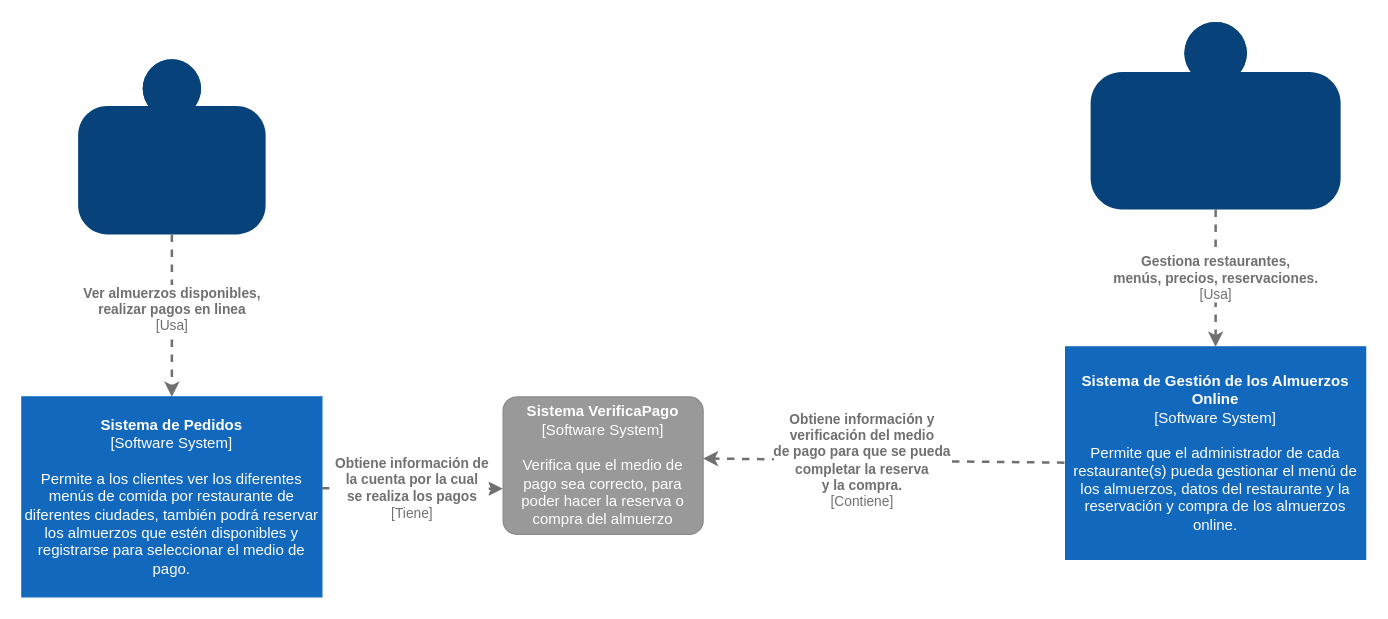
This 1388x619 diagram has some shape labels left out. The centre of each missing label's shape, as x and y in pixels:
"Administrador [Person] Administrador del restaurante(s)" belongs at pixel 1215 115.
"Cliente [Person] Comprador de Almuerzos" belongs at pixel 171 146.
